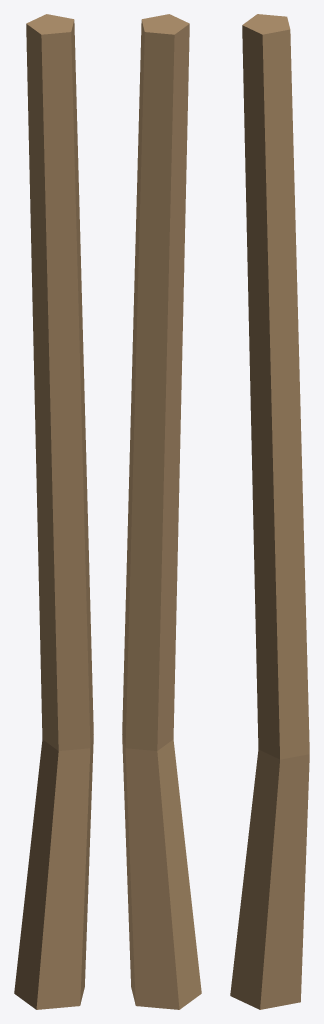
The model's file is prop-hewing-adze-handle-az1.fbx.
3 renders of one model, left to right at view 1: azimuth 30°, elevation 25°; view 2: azimuth 150°, elevation 25°; view 3: azimuth 330°, elevation 25°, orthographic.
Parts seen in each view (by area): view 1: prop-hewing-adze-handle-az1; view 2: prop-hewing-adze-handle-az1; view 3: prop-hewing-adze-handle-az1.
Boxes of the visible parts, x1,y1,x2,y2 form: prop-hewing-adze-handle-az1: (14, 14, 93, 1009); prop-hewing-adze-handle-az1: (122, 14, 201, 1009); prop-hewing-adze-handle-az1: (230, 14, 309, 1009).
Size of the model in its own units: 4.58 by 62 by 4.18.
